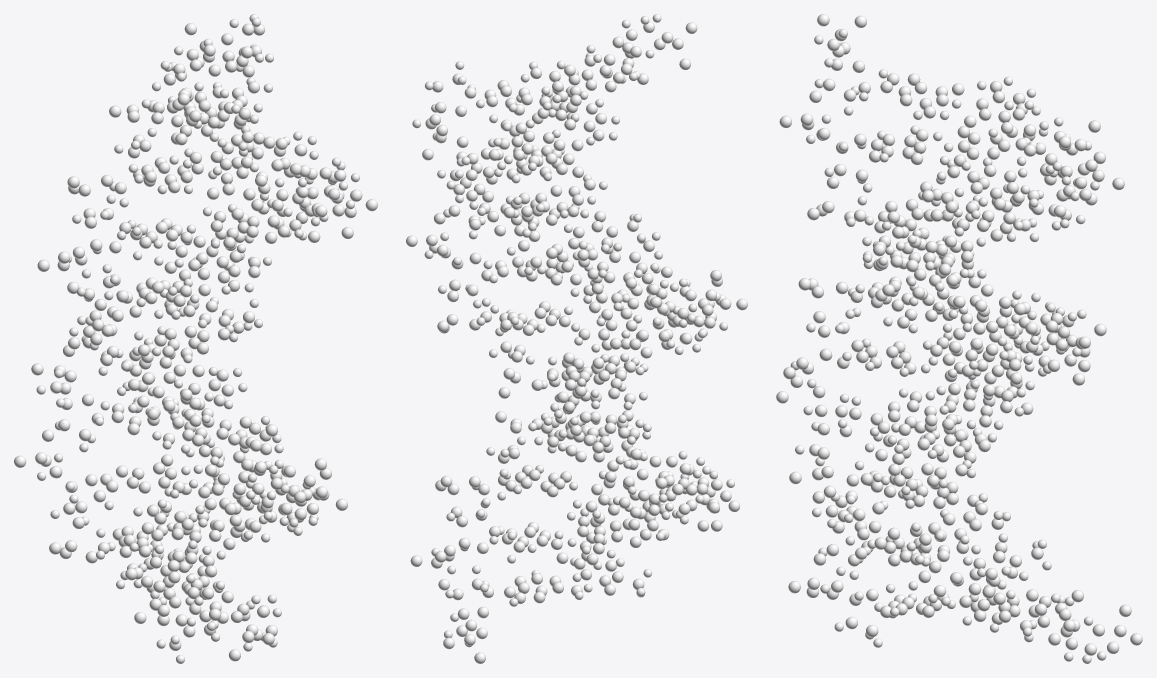
Rendered from DNAHelix_bas2.fbx.
The picture shows the model from 3 angles, left to right: view 1: azimuth 30°, elevation 25°; view 2: azimuth 150°, elevation 25°; view 3: azimuth 270°, elevation 25°; orthographic projection. The views are drawn at different scales.
Bounding box in the file's own units: 117 × 213 × 117.
Materials: 6 (1 with a texture image).
